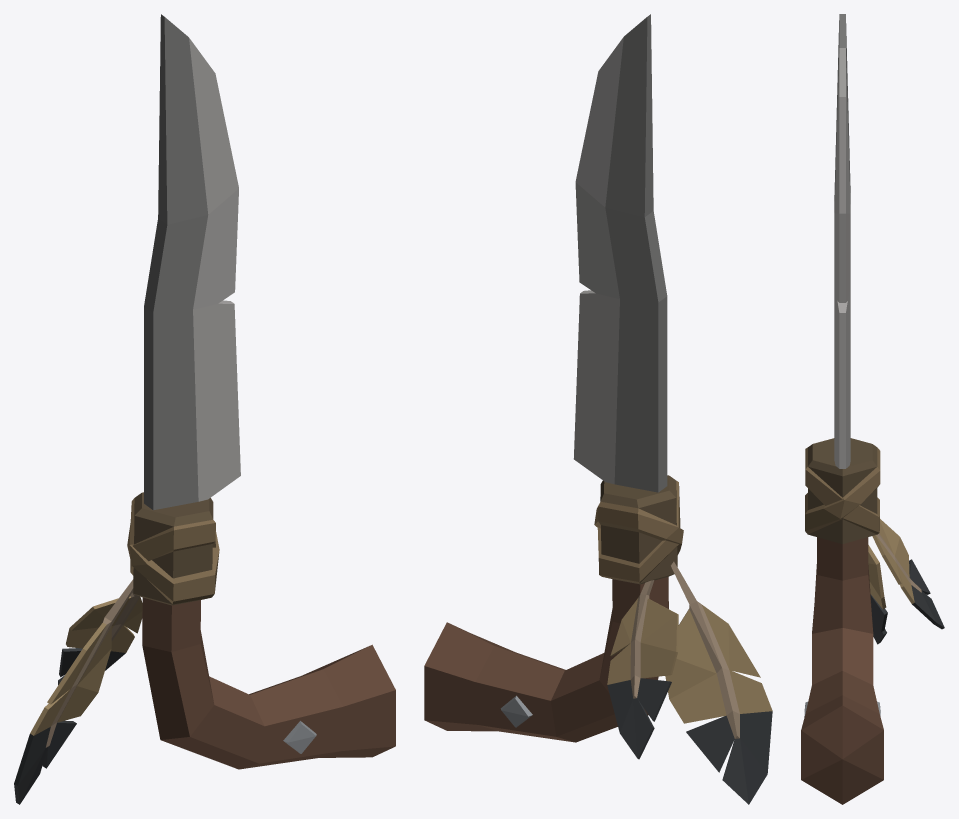
File: SM_Wep_Knife_01.glb
3 renders of one model, left to right at view 1: azimuth 30°, elevation 25°; view 2: azimuth 150°, elevation 25°; view 3: azimuth 270°, elevation 25°, orthographic. The views are drawn at different scales.
Visible parts, largest first — view 1: SM_Wep_Knife_01, SM_Wep_Knife_Feather_01; view 2: SM_Wep_Knife_01, SM_Wep_Knife_Feather_01; view 3: SM_Wep_Knife_01, SM_Wep_Knife_Feather_01.
Boxes of the visible parts, bbox=[...] form: SM_Wep_Knife_01: bbox=[127, 14, 395, 769]; SM_Wep_Knife_Feather_01: bbox=[14, 579, 142, 804]; SM_Wep_Knife_01: bbox=[424, 14, 683, 742]; SM_Wep_Knife_Feather_01: bbox=[607, 561, 772, 804]; SM_Wep_Knife_01: bbox=[801, 14, 883, 804]; SM_Wep_Knife_Feather_01: bbox=[868, 519, 944, 644].
Size of the model in its own units: 0.2427 by 0.5178 by 0.0963.
Materials: 2 (2 with a texture image).
